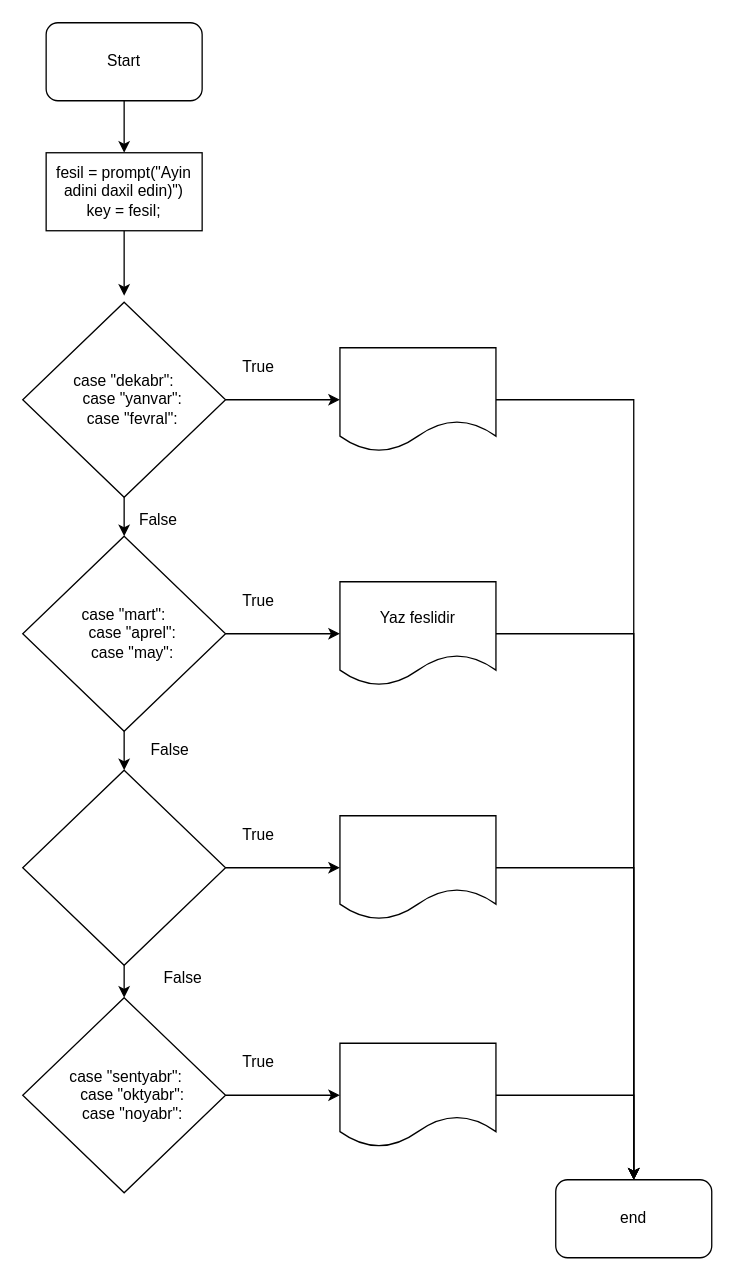
Some shapes in this 735 by 1281 pixel diagram are drawn without their labels. The shapes that lost their labels are listed below. From the top down, each one's centre as x and y in pixels, then its label:
the point at 417,399: Qis feslidir
the point at 123,867: case "iyun": case "iyul": case "avqust":
the point at 417,867: Yay feslidir
the point at 417,1094: Payiz feslidir
